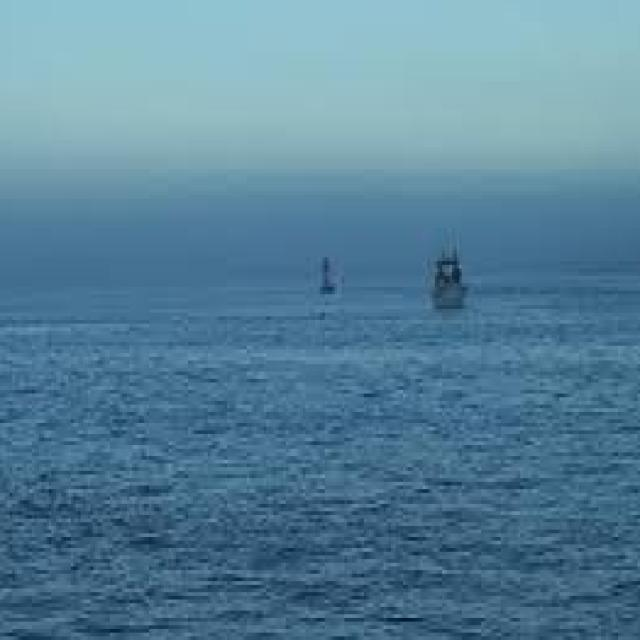fishing boat: (417, 250, 467, 318)
